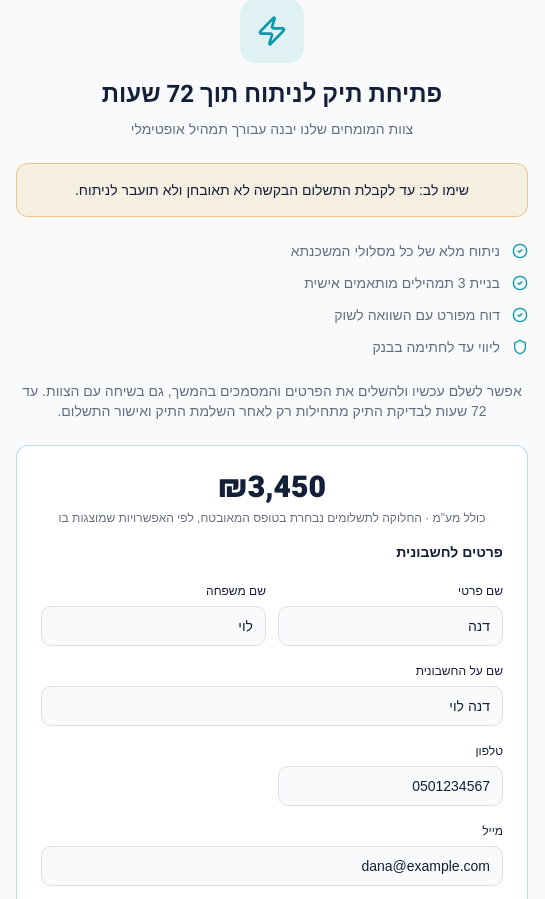
Scenario: payment billing details › blocks checkout when the email is invalid
The width and height of the screenshot is (545, 899).
Replace the text in the field labelled "מייל" with "bad" at (272, 866), box [41,846,503,886]
(page scrolled)
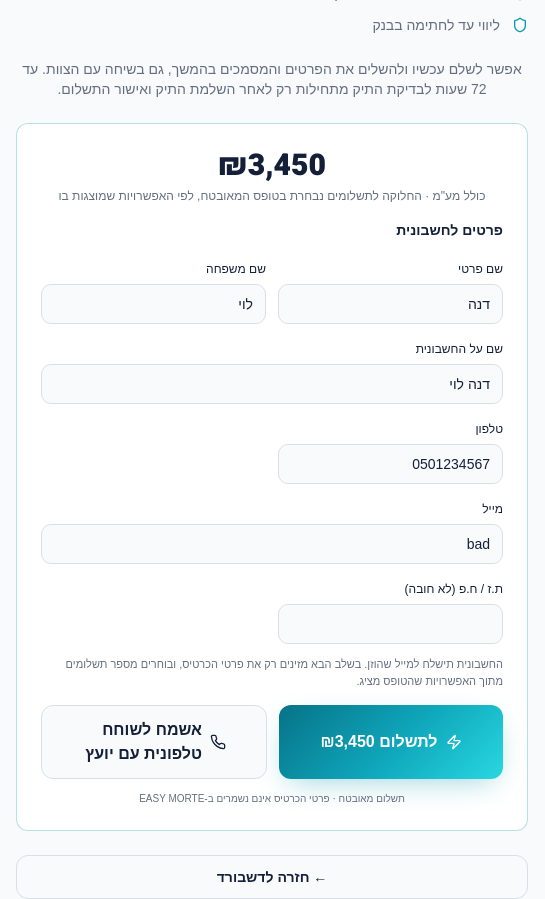
Click the button "לתשלום ₪3,450" at (391, 742), box [279,705,503,779]
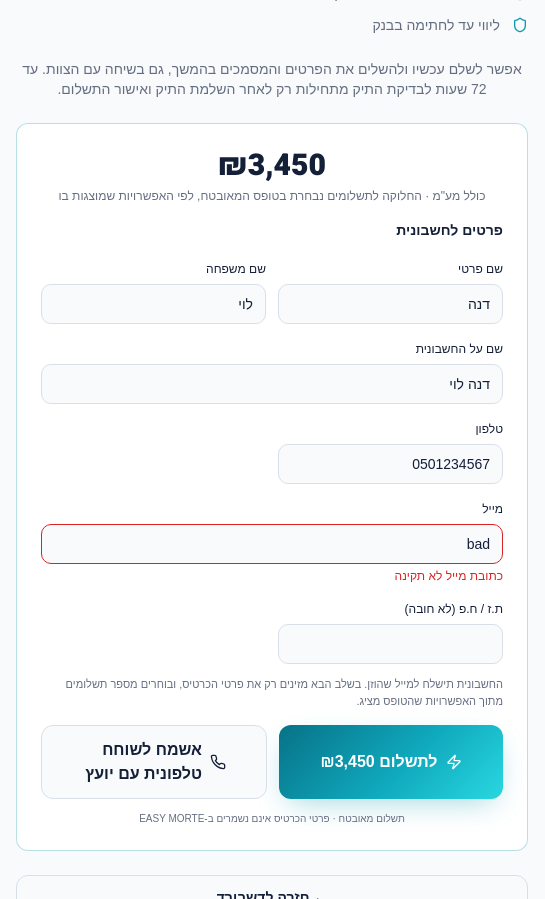
Expected: the text "כתובת מייל לא תקינה" is shown, [395,569,503,583]
